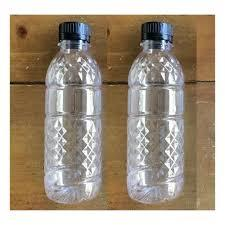BIODEGRADABLE: (38, 21, 113, 208), (130, 20, 188, 209)
